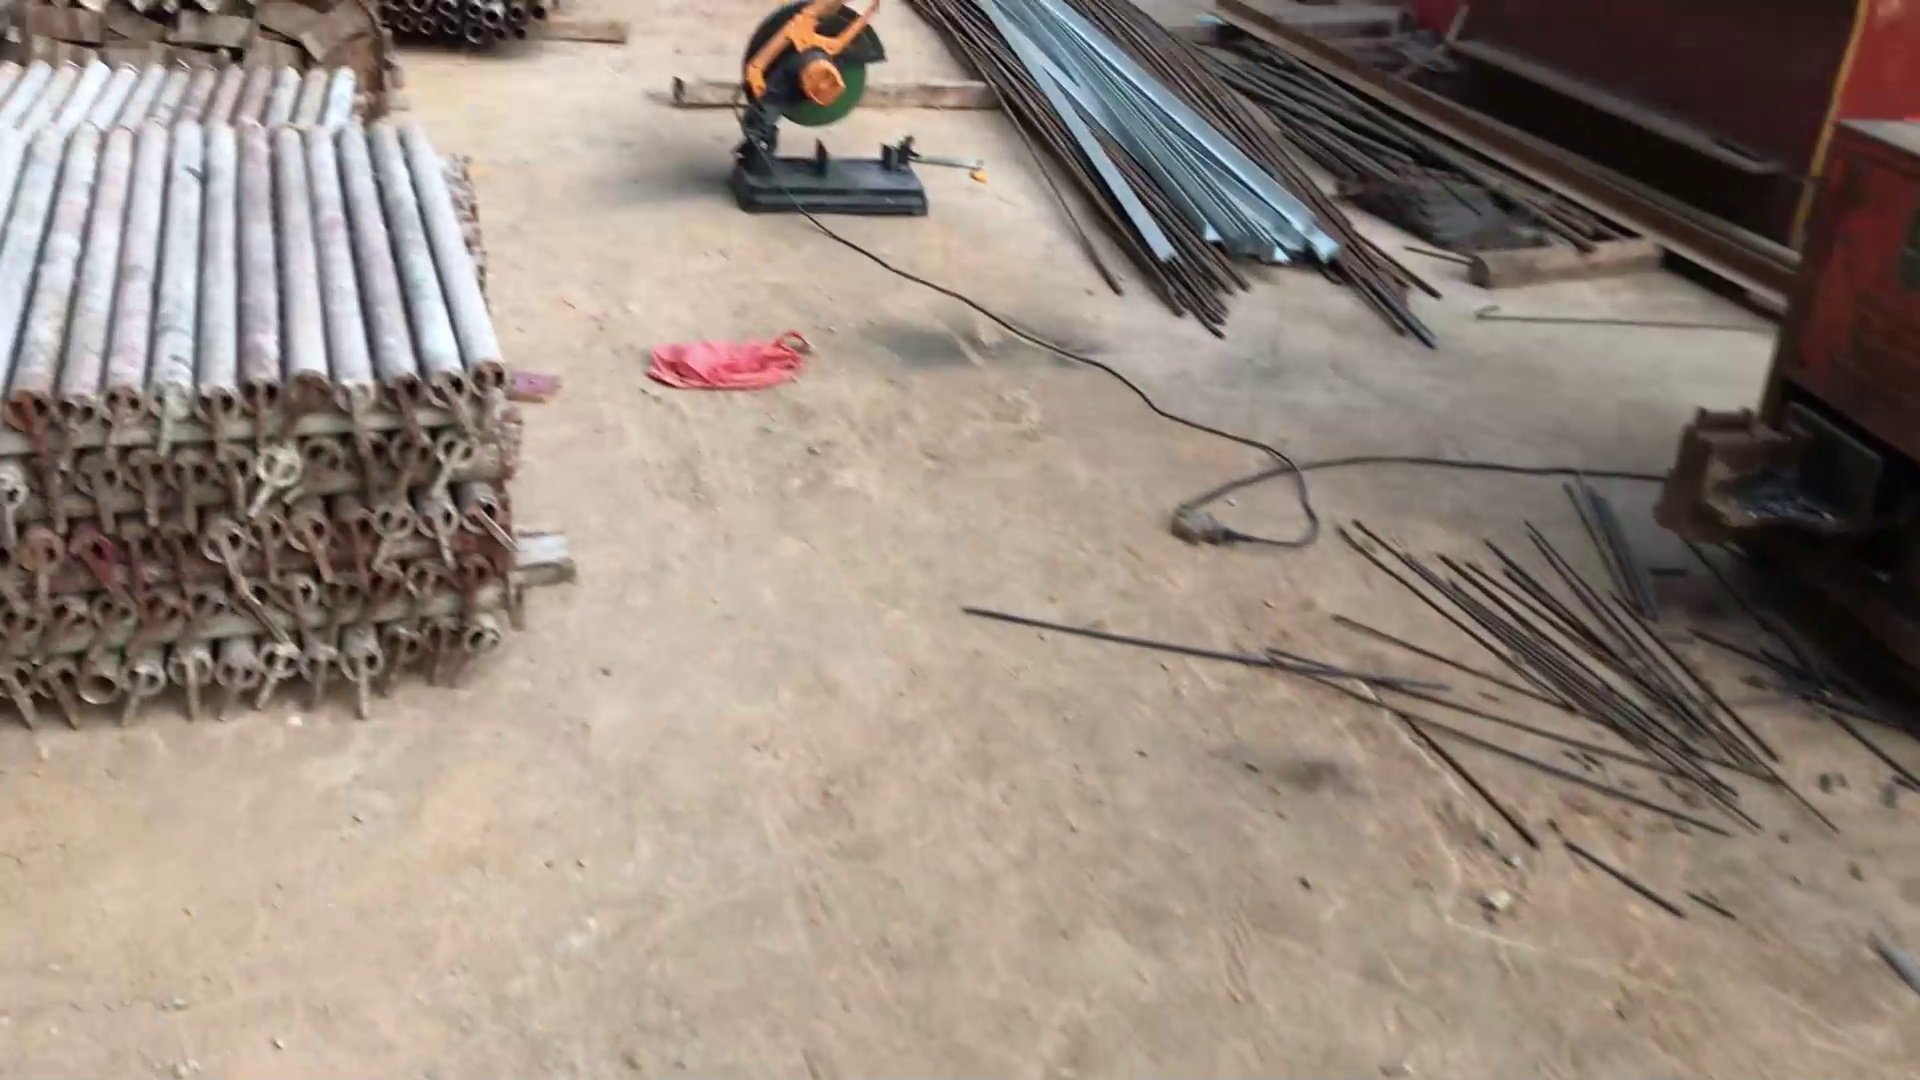cutter: (716, 1, 948, 228)
scaffold: (1, 95, 500, 742)
